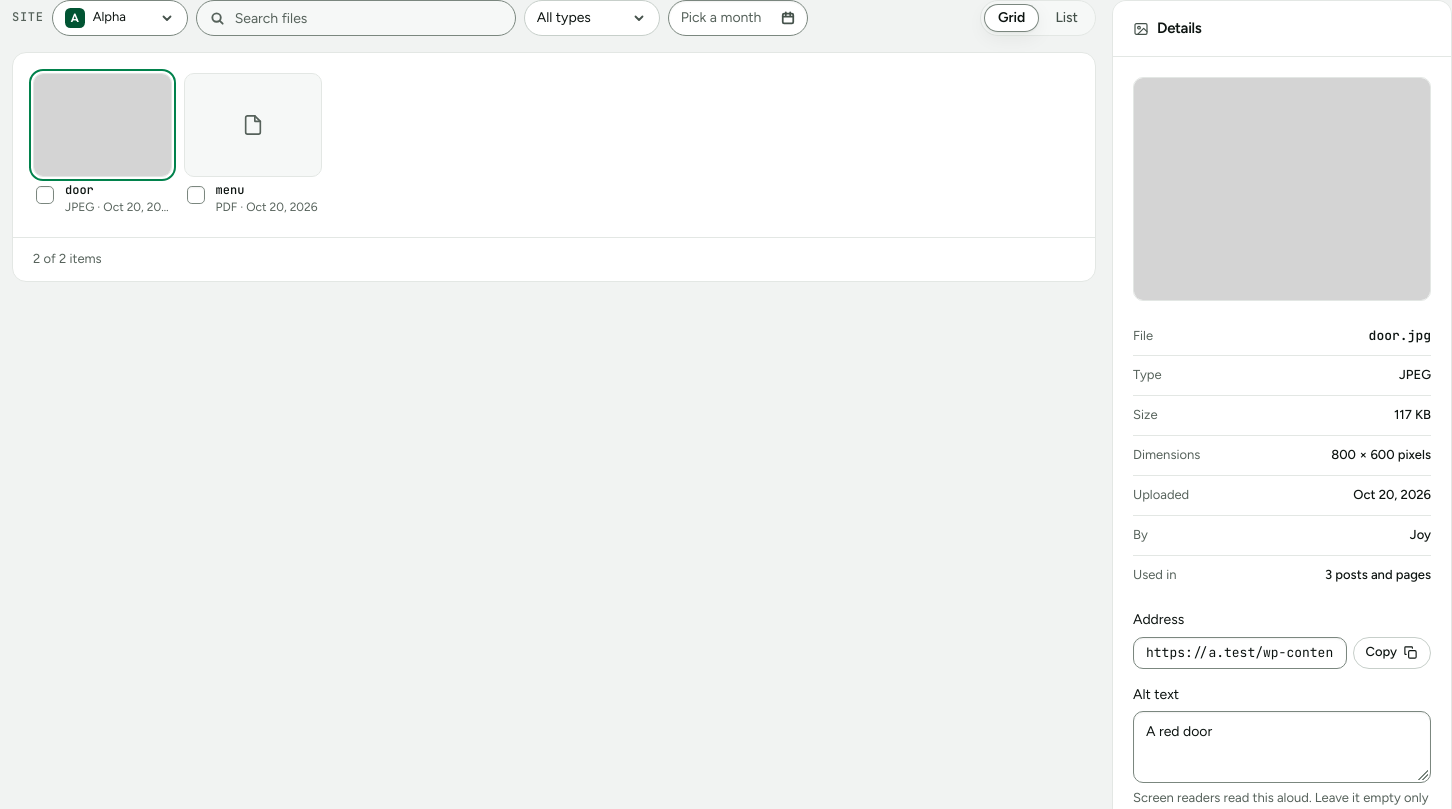
details save only what changed, with an Undo that puts the earlier text back
Expected: the text "3 posts and pages" is shown, [1325,566,1431,584]
Expected: the text "800 × 600 pixels" is shown, [1331,446,1431,465]
Replace the text in the text box labelled "Alt text" with "A blue door" at coordinates (1282, 747), box [1133,711,1431,783]
(page scrolled)
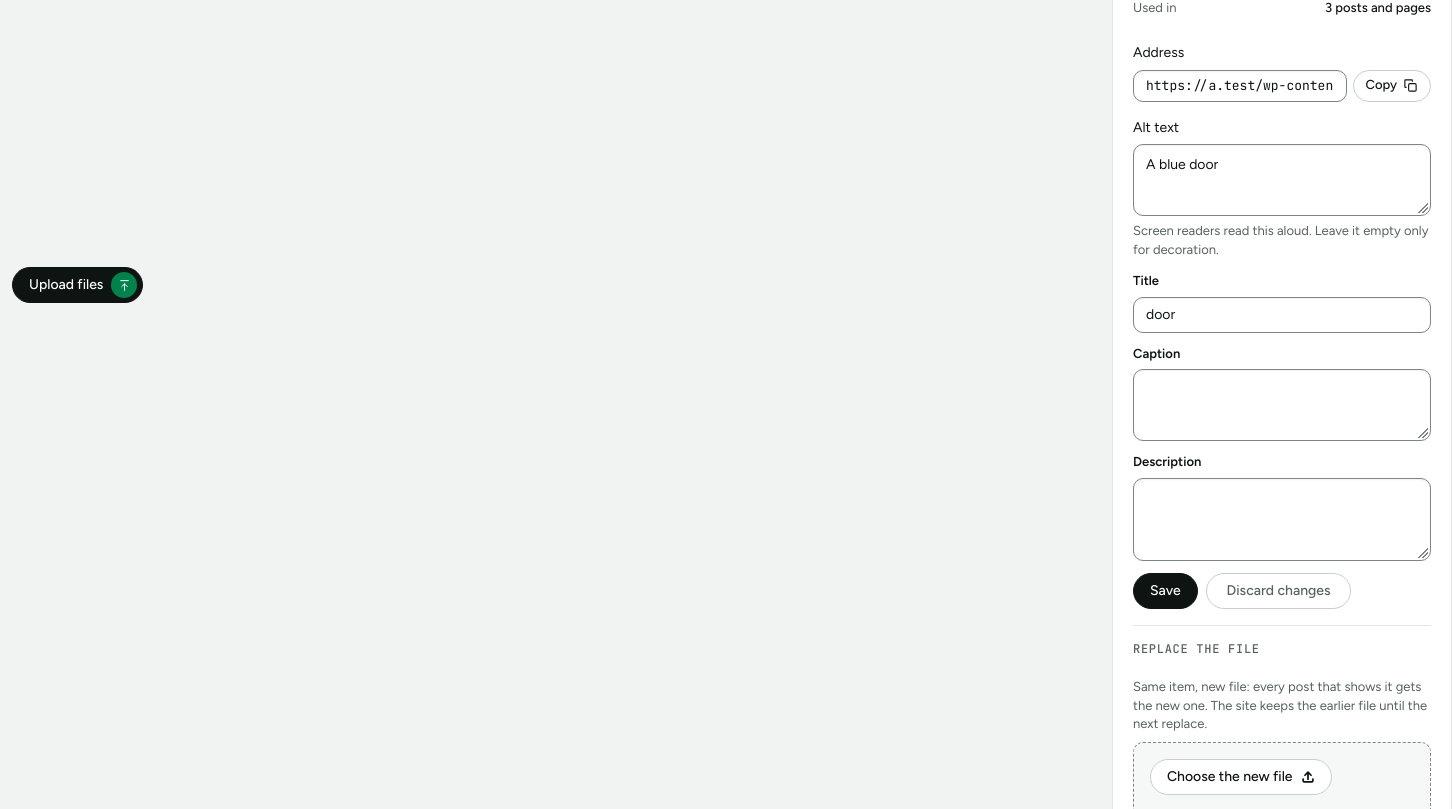
Type "Our door" into the text box labelled "Caption" at coordinates (1282, 405), box [1133,369,1431,441]
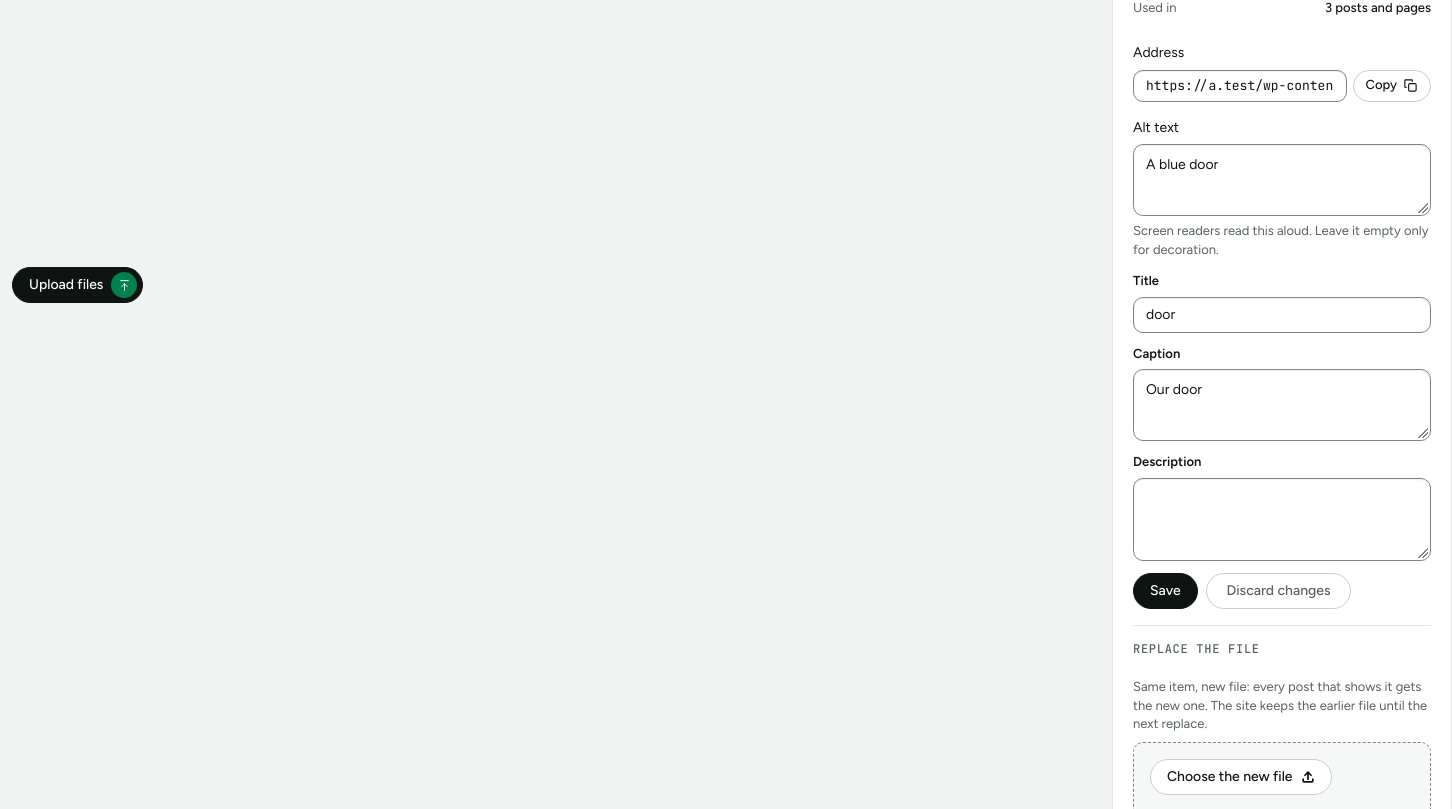
Click the button "Save" at coordinates (1165, 591), box [1133,573,1198,609]
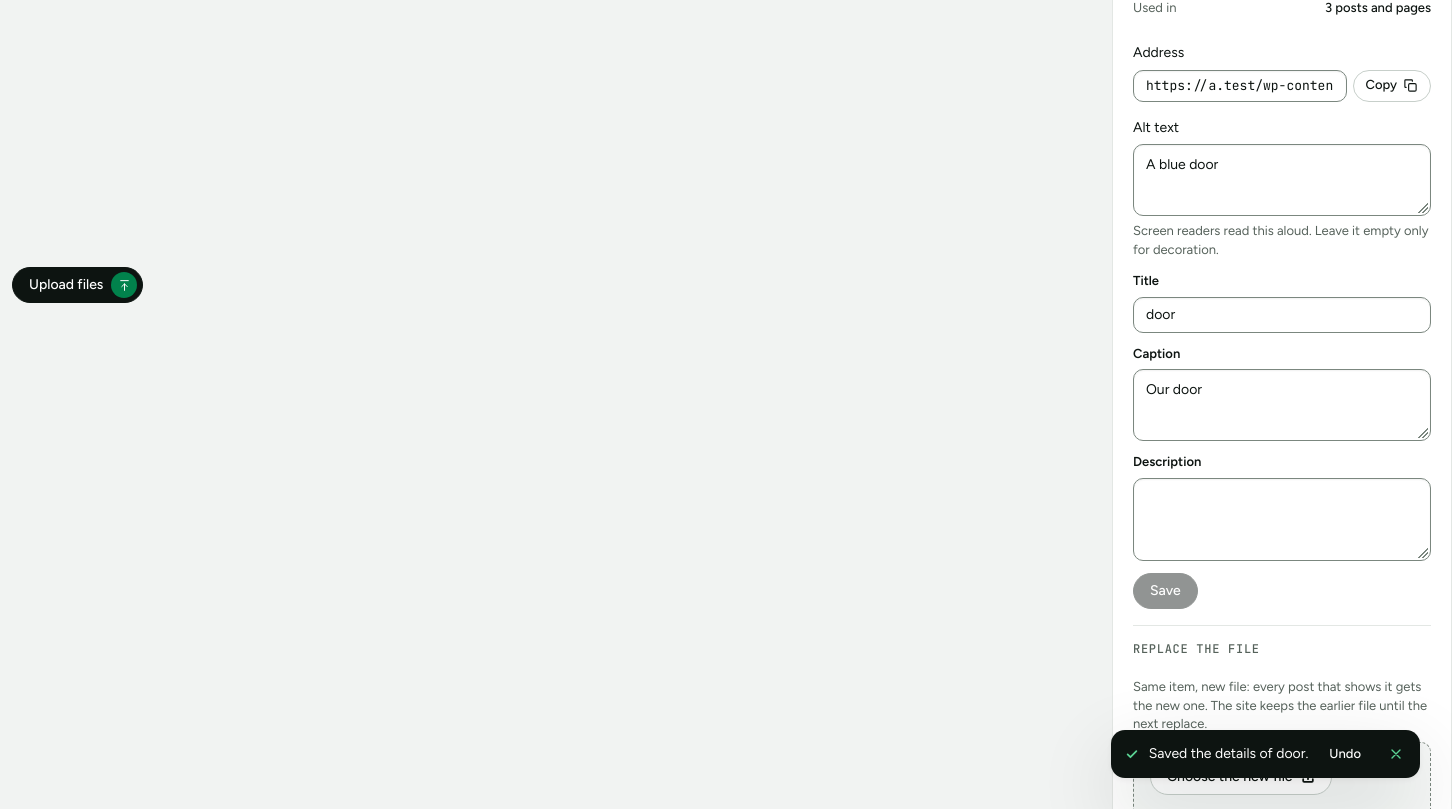
Now the text "Saved the details of door." is shown, box [1149,744,1308,764]
Click the button "Undo" at coordinates (1345, 754), box [1318,740,1372,768]
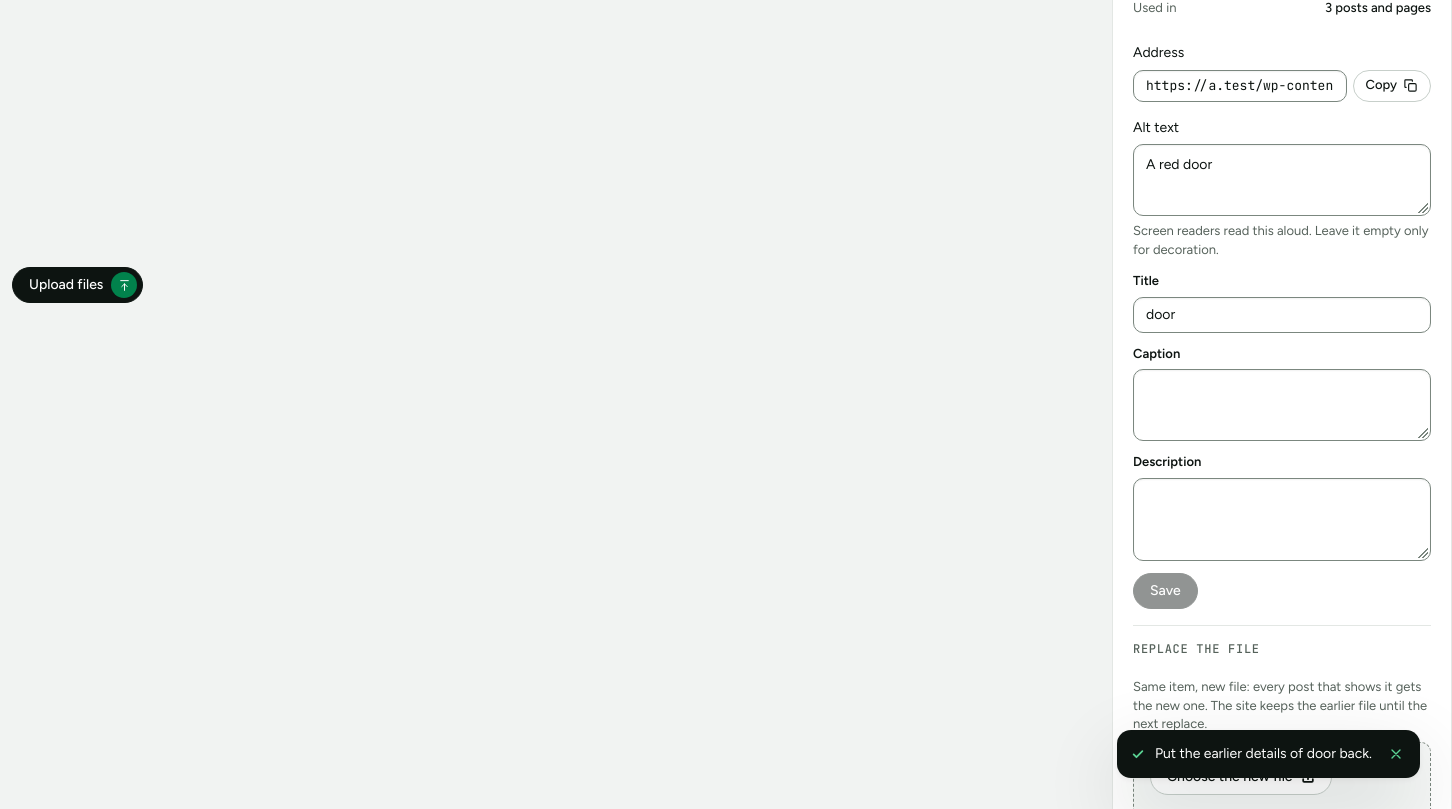
Now the text "Put the earlier details of door back." is shown, box [1155,744,1372,764]
